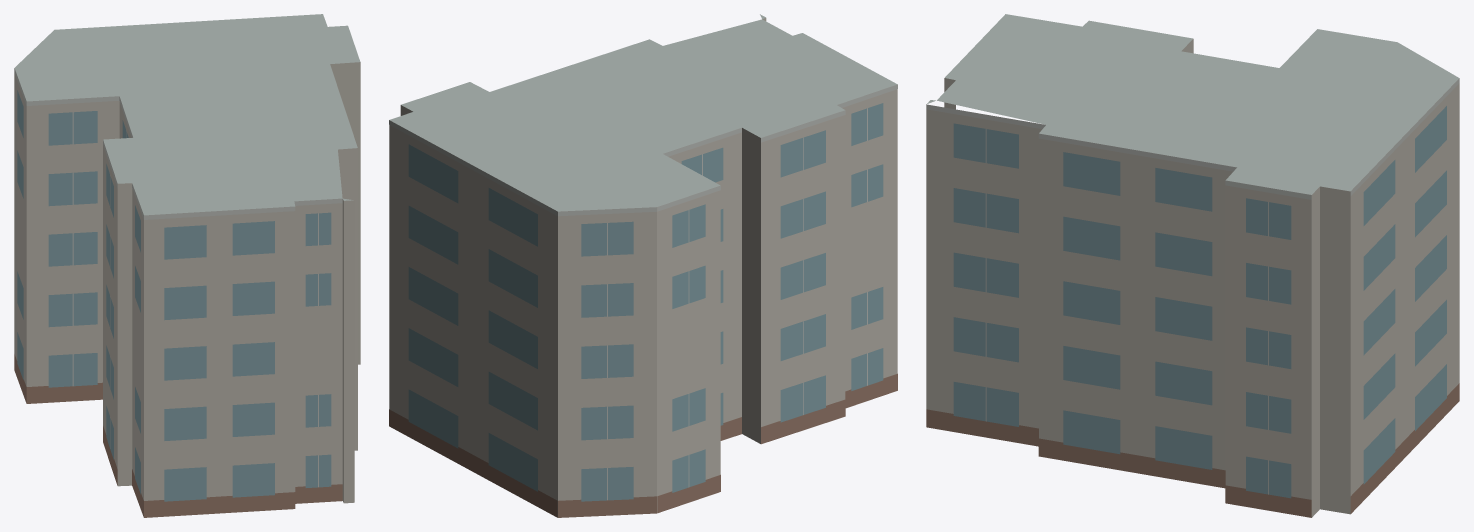
The model's file is survey-upis-33039421.glb.
3 views of the same model, side by side, from view 1: azimuth 30°, elevation 25°; view 2: azimuth 150°, elevation 25°; view 3: azimuth 270°, elevation 25° (orthographic). The views are drawn at different scales.
Visible parts, largest first — view 1: survey-upis-33039421.tmp; view 2: survey-upis-33039421.tmp; view 3: survey-upis-33039421.tmp.
Part boxes in pixels (left/top/right/bottom): survey-upis-33039421.tmp: left=14, top=14, right=360, bottom=517; survey-upis-33039421.tmp: left=389, top=14, right=897, bottom=517; survey-upis-33039421.tmp: left=926, top=14, right=1459, bottom=517.
Bounding box in the file's own units: 19.18 × 15.95 × 23.88.
